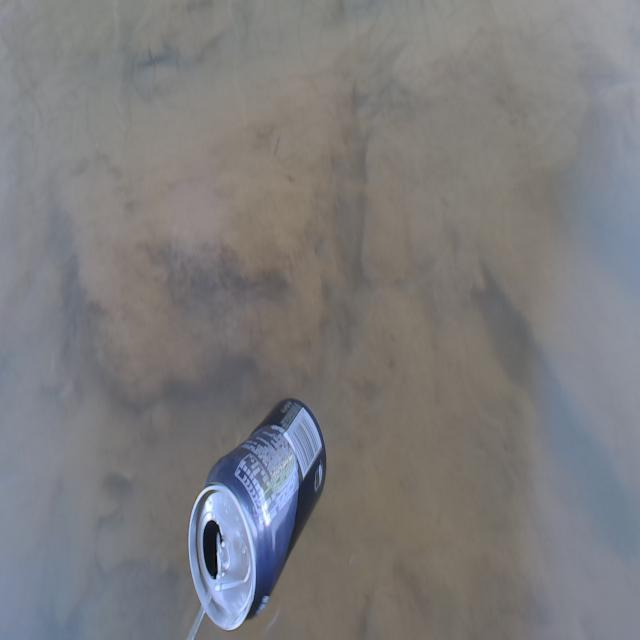Can: (183, 393, 327, 629)
